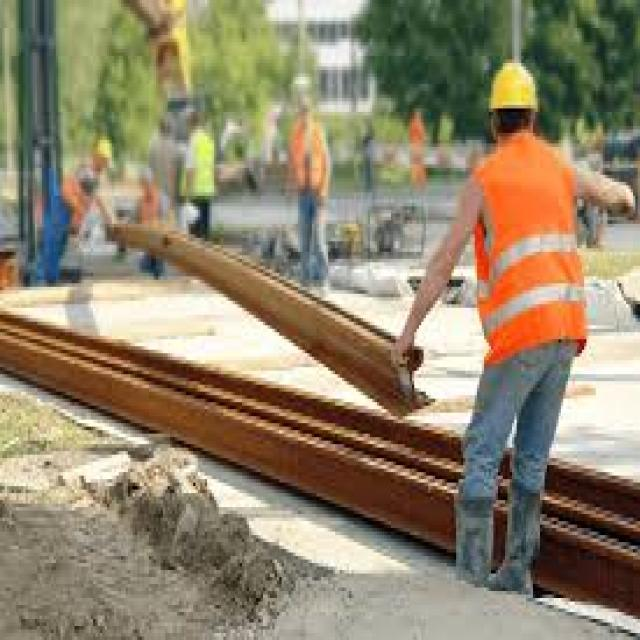Reflective-Jacket: (459, 140, 591, 378)
Safety-Helmet: (480, 52, 544, 126), (88, 126, 119, 175)
